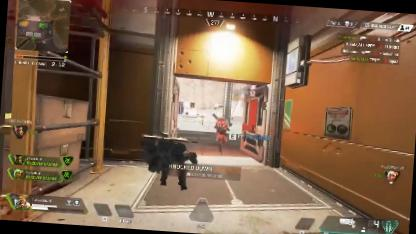Target: (210, 113, 230, 157)
